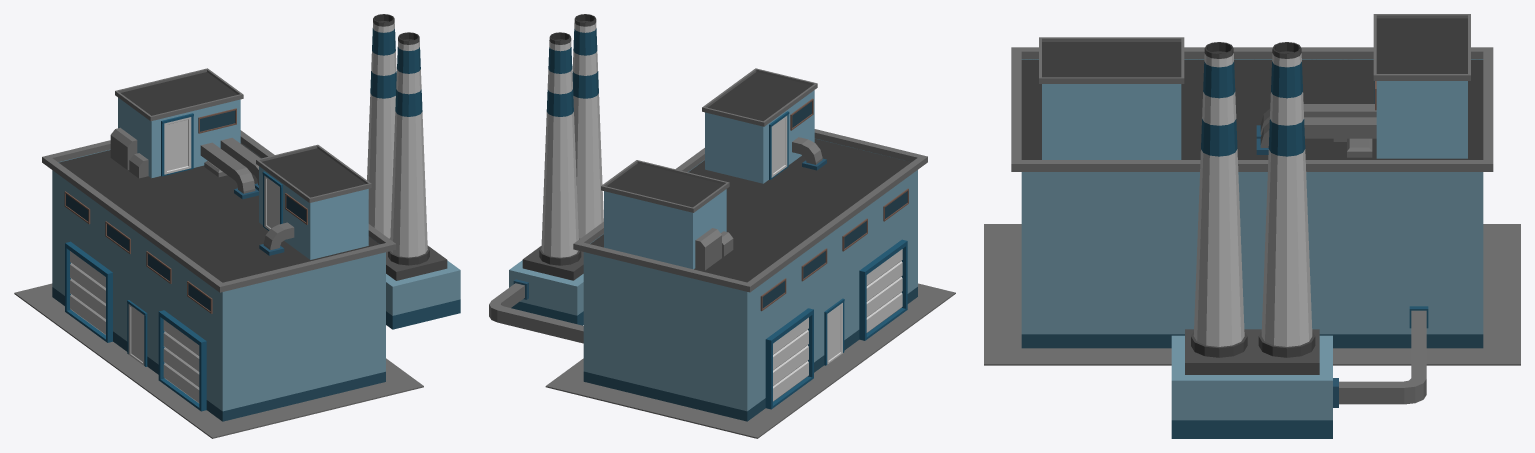
Rendered from bldg-factory-a.glb.
3 renders of one model, left to right at view 1: azimuth 30°, elevation 25°; view 2: azimuth 150°, elevation 25°; view 3: azimuth 270°, elevation 25°, orthographic. The views are drawn at different scales.
Parts seen in each view (by area): view 1: factorybuilding_a; view 2: factorybuilding_a; view 3: factorybuilding_a.
Part boxes in pixels (x1=…): factorybuilding_a: x1=14, y1=14, x2=460, y2=438; factorybuilding_a: x1=489, y1=14, x2=955, y2=438; factorybuilding_a: x1=984, y1=14, x2=1520, y2=438.
Size of the model in its own units: 26.34 by 21.53 by 28.45.
Materials: 1 (1 with a texture image).
